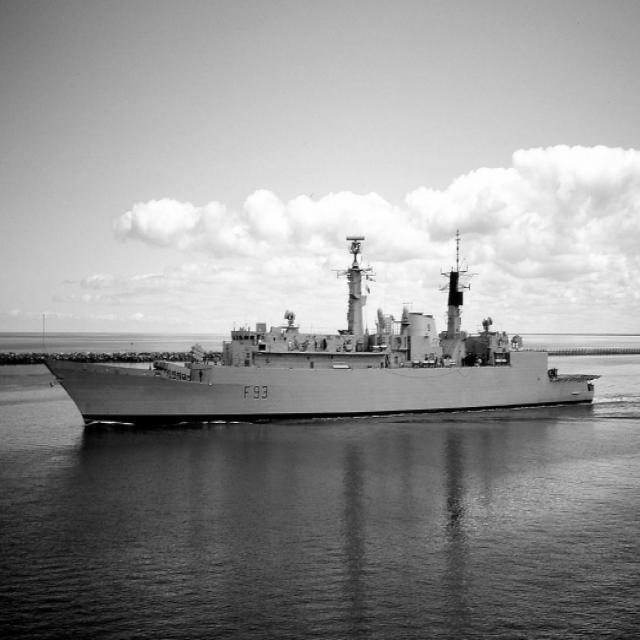Fragata: (41, 234, 597, 437)
